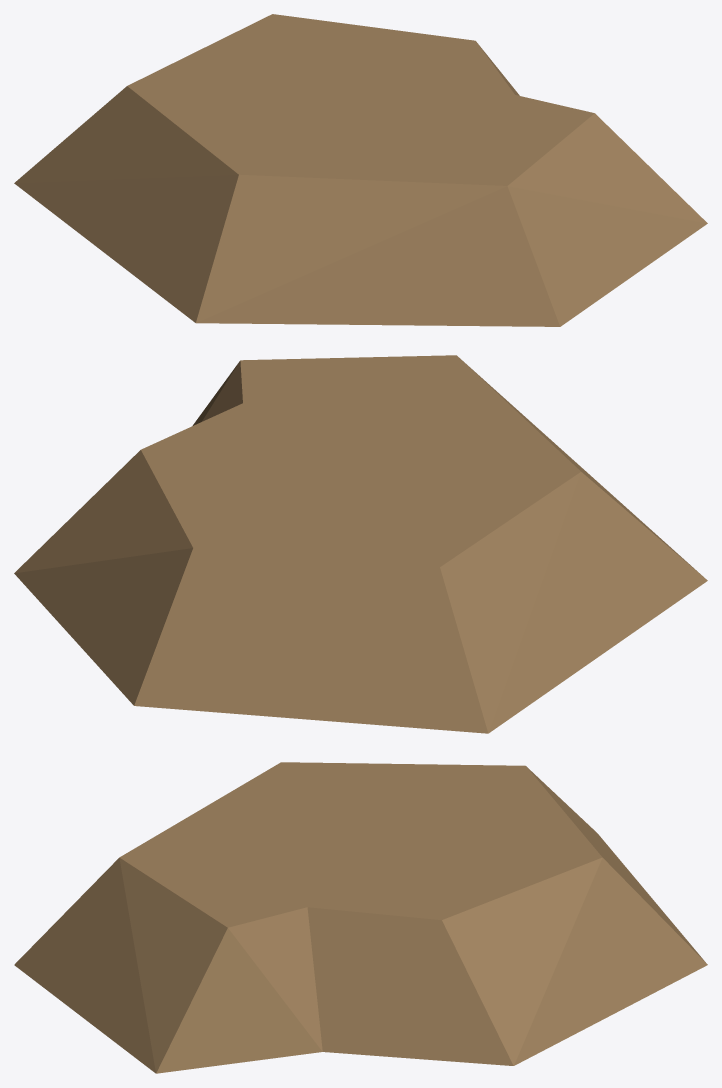
File: SM_Env_Pebble_04.gltf
3 renders of one model, top to bottom at view 1: azimuth 30°, elevation 25°; view 2: azimuth 150°, elevation 25°; view 3: azimuth 270°, elevation 25°, orthographic. The views are drawn at different scales.
Visible parts, largest first — view 1: SM_Env_Pebble_04; view 2: SM_Env_Pebble_04; view 3: SM_Env_Pebble_04.
Part boxes in pixels (x1=…): SM_Env_Pebble_04: x1=14, y1=14, x2=707, y2=326; SM_Env_Pebble_04: x1=14, y1=355, x2=707, y2=733; SM_Env_Pebble_04: x1=14, y1=762, x2=707, y2=1073.
Bounding box in the file's own units: 0.0901 × 0.0184 × 0.1083.
Materials: 1 (1 with a texture image).
